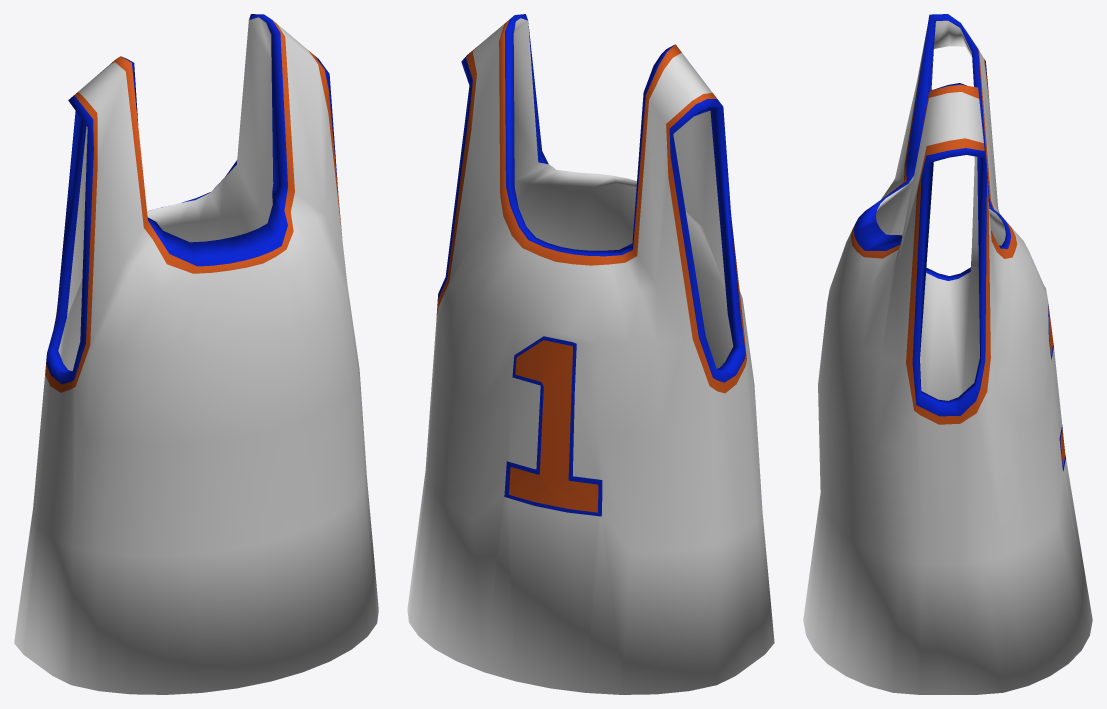
Rendered from Jersey.fbx.
The picture shows the model from 3 angles, left to right: view 1: azimuth 30°, elevation 25°; view 2: azimuth 150°, elevation 25°; view 3: azimuth 270°, elevation 25°; orthographic projection. The views are drawn at different scales.
Parts seen in each view (by area): view 1: Cube; view 2: Cube; view 3: Cube.
Part boxes in pixels (x1=…): Cube: x1=14, y1=14, x2=378, y2=694; Cube: x1=407, y1=14, x2=774, y2=694; Cube: x1=803, y1=14, x2=1092, y2=694.
Bounding box in the file's own units: 2.76 × 4.91 × 2.26.
